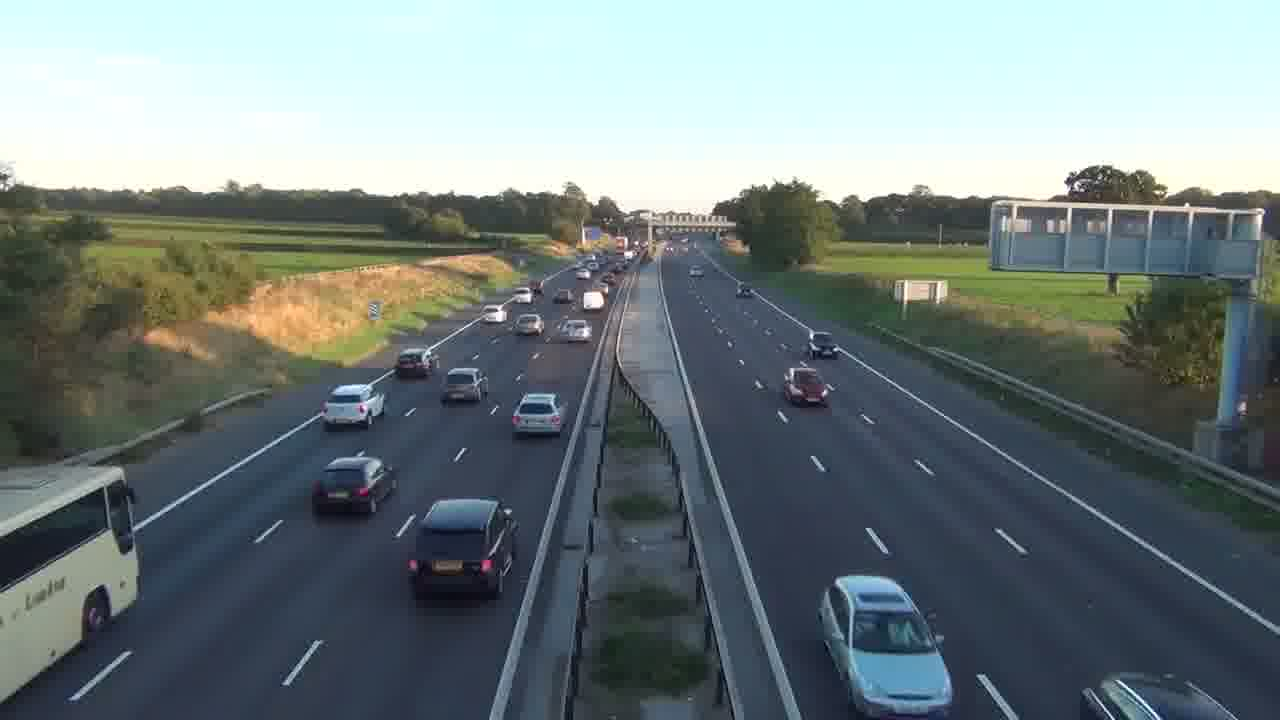bus: (0, 463, 144, 703)
car: (816, 573, 954, 717), (405, 497, 519, 602), (1080, 671, 1239, 719), (311, 455, 397, 516), (511, 392, 565, 437), (783, 365, 830, 407), (441, 366, 488, 405), (395, 349, 432, 380), (550, 317, 592, 343)
